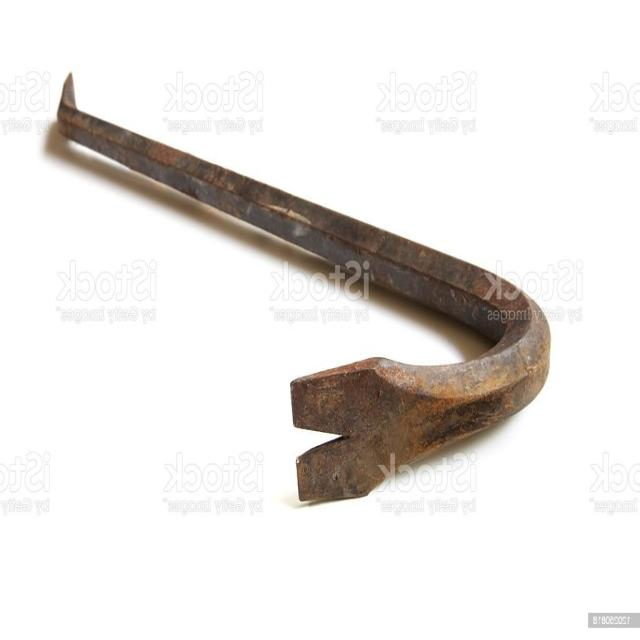Linggis: (56, 67, 554, 503)
